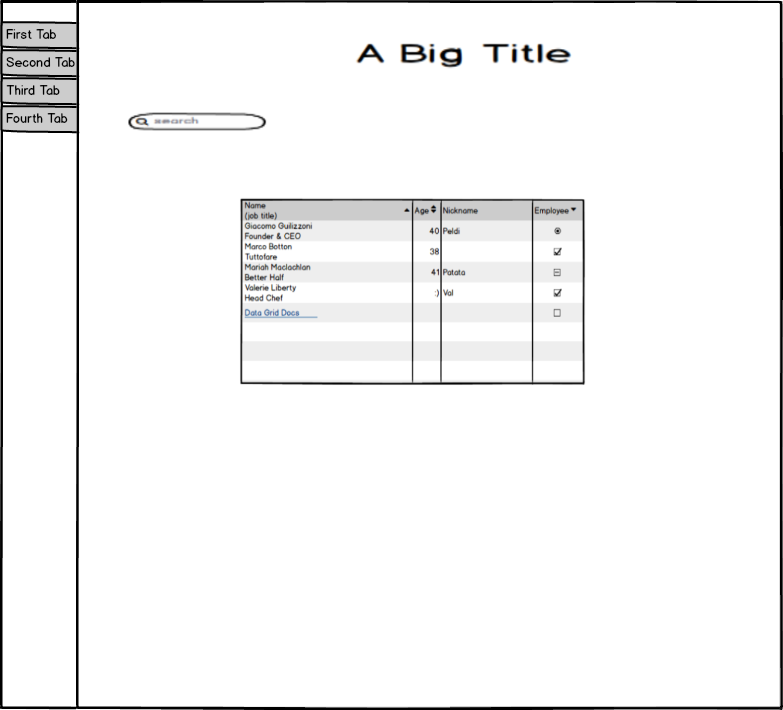h1: (345, 38, 587, 74)
search: (122, 108, 274, 134)
sidebar: (1, 16, 76, 144)
table: (232, 194, 591, 393)
